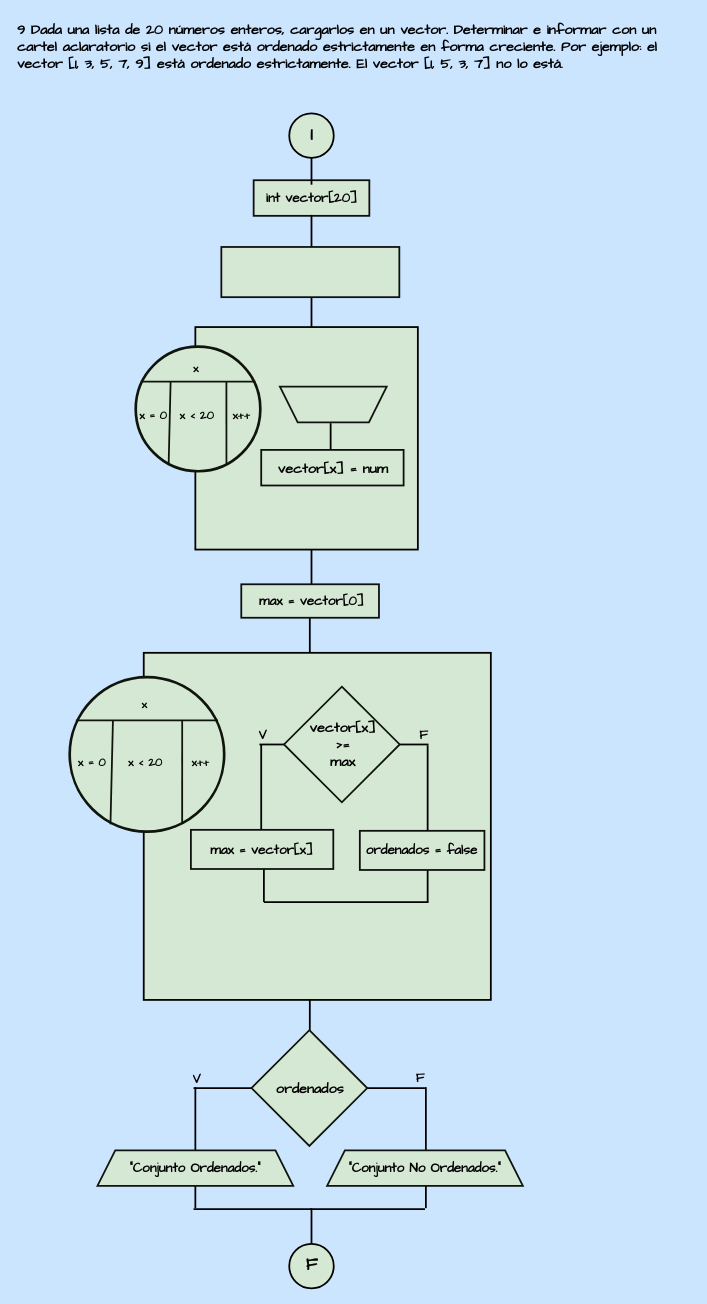
Image size: 707x1304. Some labels were removed from this diagram. The box of each missing label's shape, as (x1, y1, x2, y2) in pixels:
int num, x = 0, max = 0 ordenados = true: (220, 246, 400, 298)
num: (279, 385, 387, 423)
